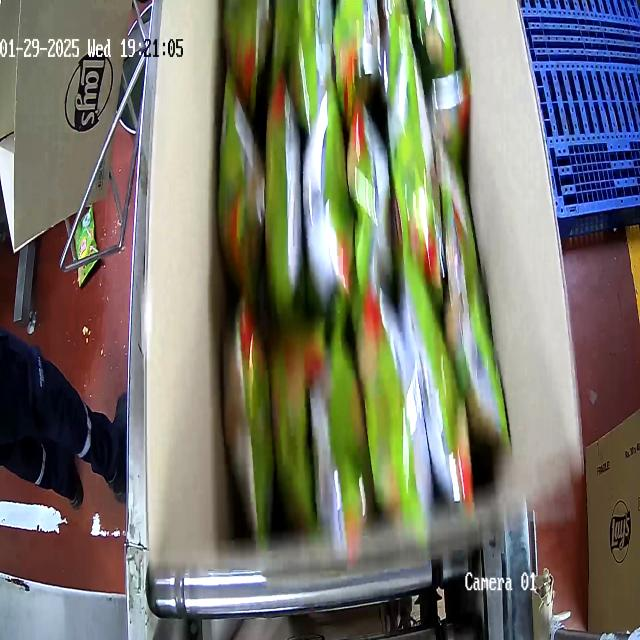YOGURT_HERB: (214, 0, 512, 577)
